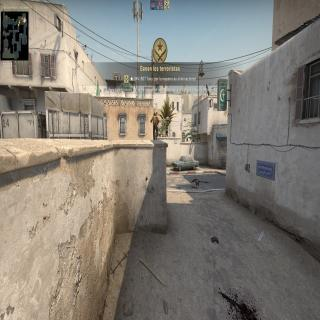T-Head: (153, 111, 156, 117)
